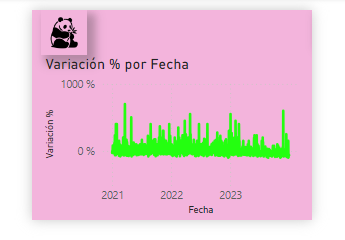

The dashboard page shown, as its layout file describes it:
{"tool":"powerbi","page":{"name":"TOOLTIP","canvas":[320,240],"ordinal":2},"visuals":[{"type":"image","box":[10,0,53,52],"z":0},{"type":"textbox","box":[320,0,854,35],"z":1000},{"type":"image","box":[1173.9,0,106.2,105],"z":2000},{"type":"lineChart","fields":{"Y":["Medidas.Variación %"],"Category":["Fechas.Fecha"]},"box":[10,52,302,188],"z":3000}]}

Visuals, with their boxes on the page's 320x240 design canvas (x1, y1, x2, y2). These are canvas units, not pixel positions in the 345x240 screenshot, which may show the page scaled, cropped or inside an application window:
image: 10/0/63/52
textbox: 320/0/1174/35
image: 1174/0/1280/105
lineChart - Medidas.Variación % x Fechas.Fecha: 10/52/312/240
